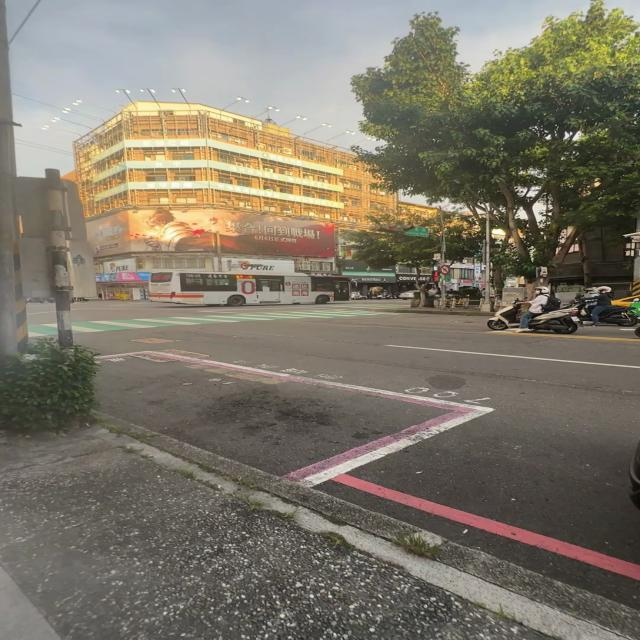bus: (148, 270, 349, 306)
crosswalk: (71, 309, 421, 334), (310, 303, 411, 309), (28, 322, 58, 337)
motocycle: (529, 309, 580, 334), (485, 304, 523, 330), (598, 305, 638, 326)
